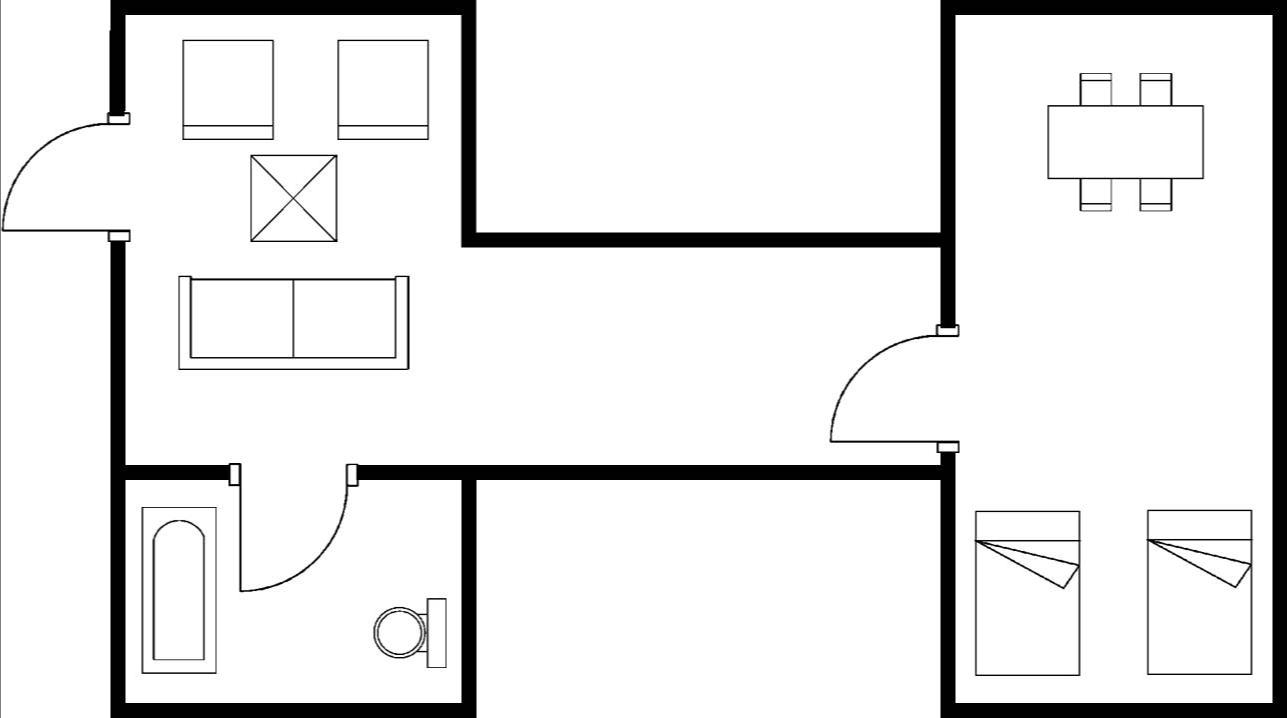bed: (970, 502, 1086, 683), (1142, 503, 1259, 682)
dining_table: (1039, 64, 1213, 218)
sofa: (172, 267, 420, 376)
toilet: (370, 592, 453, 675)
tub: (135, 499, 227, 676)
